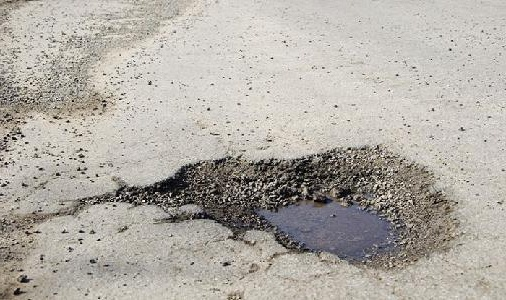pothole: (127, 141, 461, 270)
